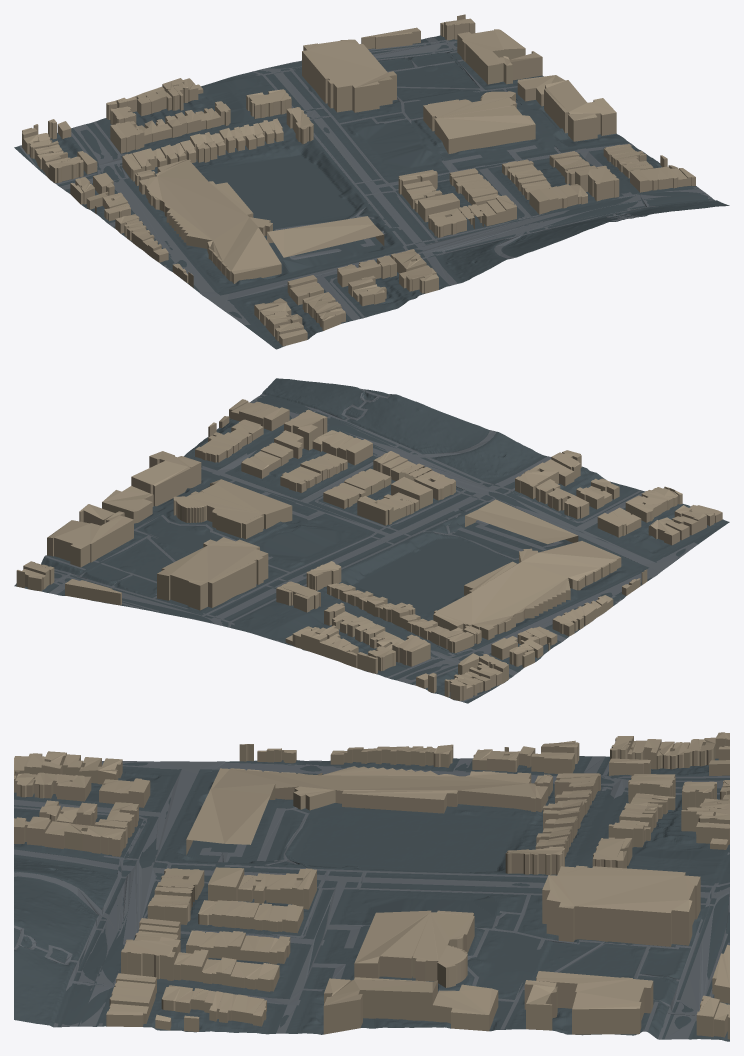
The model's file is epsg26910-1427-10888.lod0.glb.
3 views of the same model, one above another, from view 1: azimuth 30°, elevation 25°; view 2: azimuth 150°, elevation 25°; view 3: azimuth 270°, elevation 25° (orthographic). The views are drawn at different scales.
Visible parts, largest first — view 1: epsg26910-1427-10888-lod0; view 2: epsg26910-1427-10888-lod0; view 3: epsg26910-1427-10888-lod0.
Boxes of the visible parts, x1,y1,x2,y2 form: epsg26910-1427-10888-lod0: [14, 14, 729, 349]; epsg26910-1427-10888-lod0: [14, 378, 729, 703]; epsg26910-1427-10888-lod0: [14, 732, 729, 1041].
Bounding box in the file's own units: 384 × 42.24 × 384.
